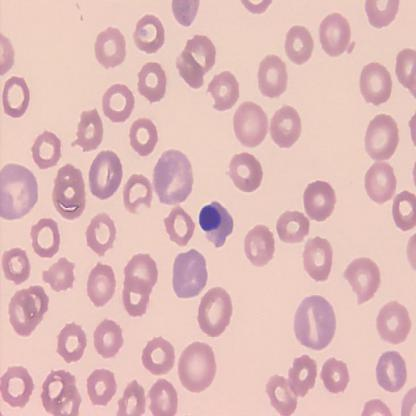NRC: (197, 199, 235, 249)
